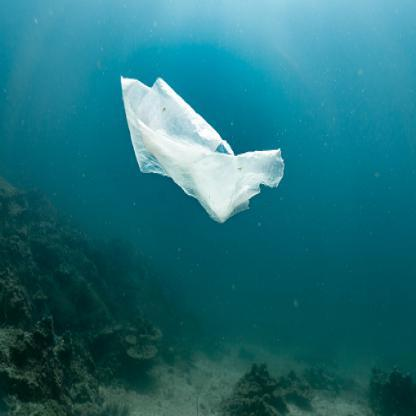Rác: (108, 57, 288, 224)
